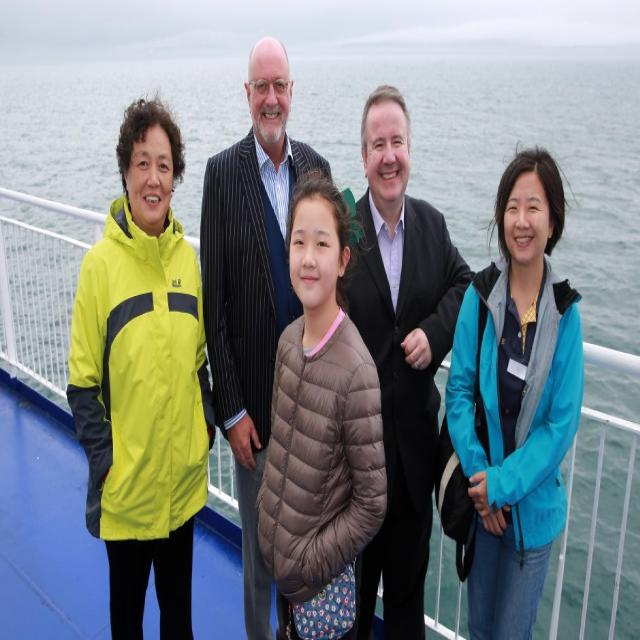body: (196, 31, 346, 639), (65, 95, 218, 639), (430, 138, 591, 639), (336, 85, 477, 640), (248, 164, 390, 639)
